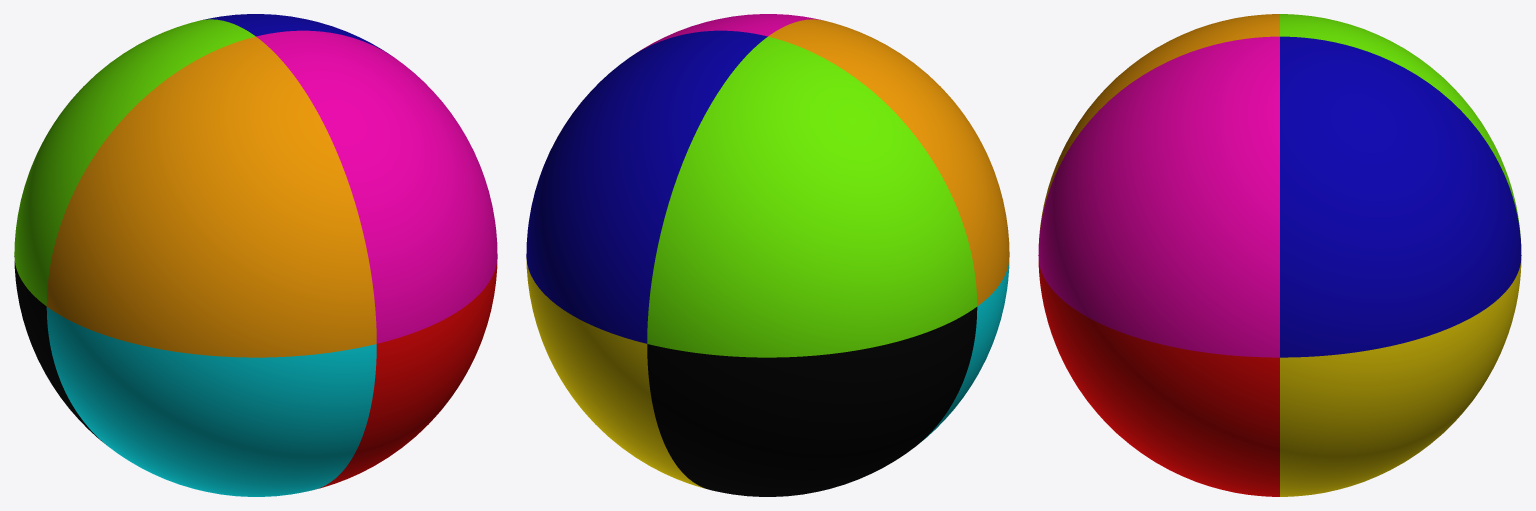
File: OctahedronSphere_multiMat8.fbx
The picture shows the model from 3 angles, left to right: view 1: azimuth 30°, elevation 25°; view 2: azimuth 150°, elevation 25°; view 3: azimuth 270°, elevation 25°; orthographic projection.
Visible parts, largest first — view 1: OctahedronSphere_multiMat8; view 2: OctahedronSphere_multiMat8; view 3: OctahedronSphere_multiMat8.
Part boxes in pixels (left/top/right/bottom): OctahedronSphere_multiMat8: left=14, top=14, right=497, bottom=496; OctahedronSphere_multiMat8: left=526, top=14, right=1009, bottom=496; OctahedronSphere_multiMat8: left=1038, top=14, right=1521, bottom=496.
Bounding box in the file's own units: 2 × 2 × 2.
